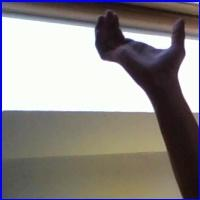space: (84, 7, 192, 85)
